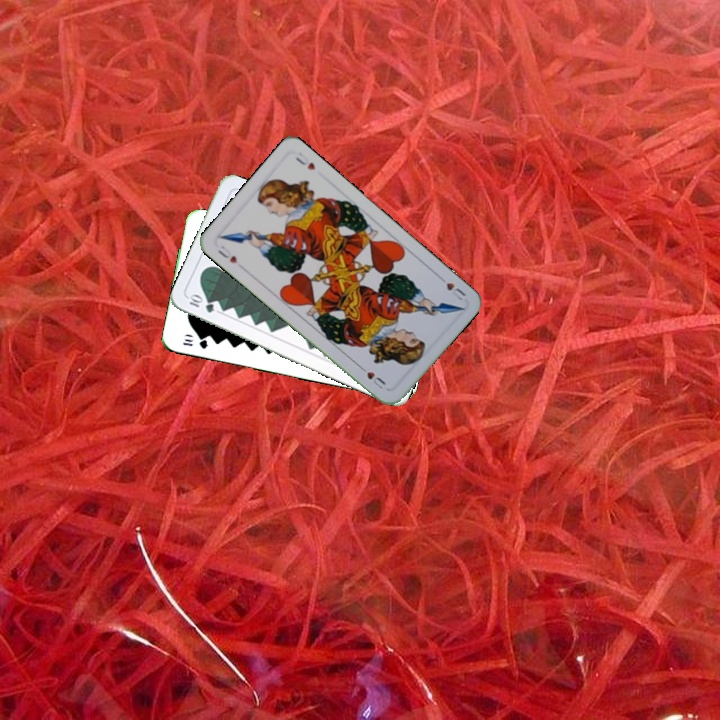G10: (185, 291, 217, 316), (179, 334, 210, 351)
HU: (434, 272, 468, 303), (214, 241, 240, 266)
